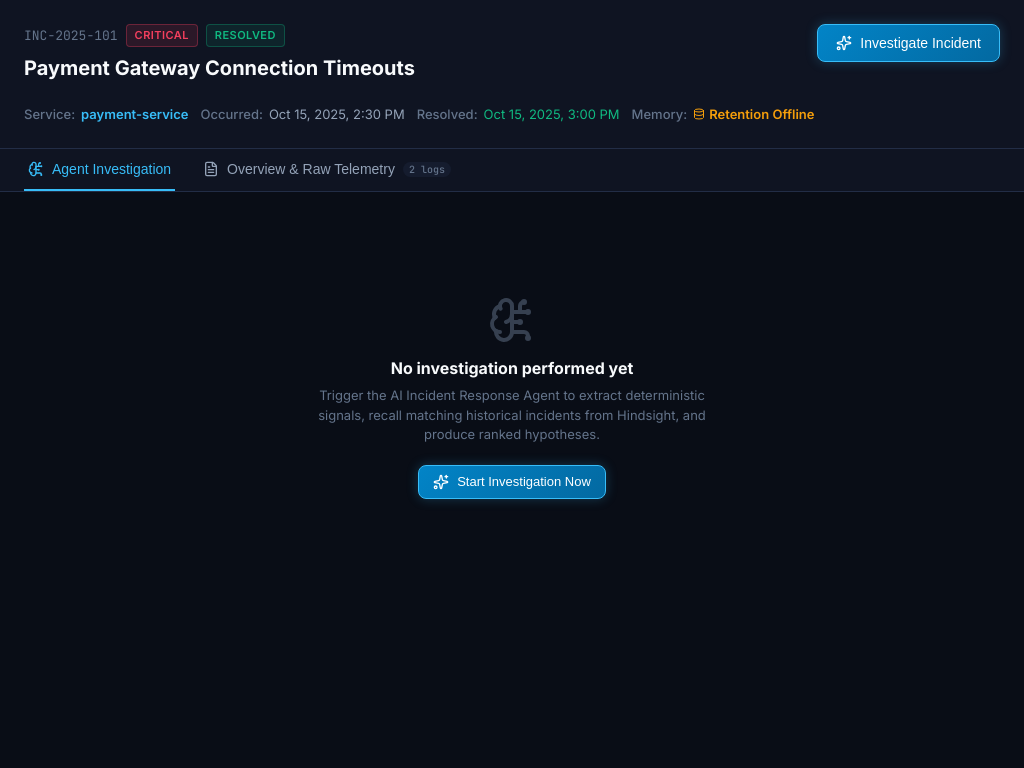
Test: IncidentDetail Component › renders Memory Offline badge when memory_status is retention_failed
Click the button "Overview & Raw Telemetry 2 logs". click: (327, 170)
box: x1=199 y1=149 x2=455 y2=191
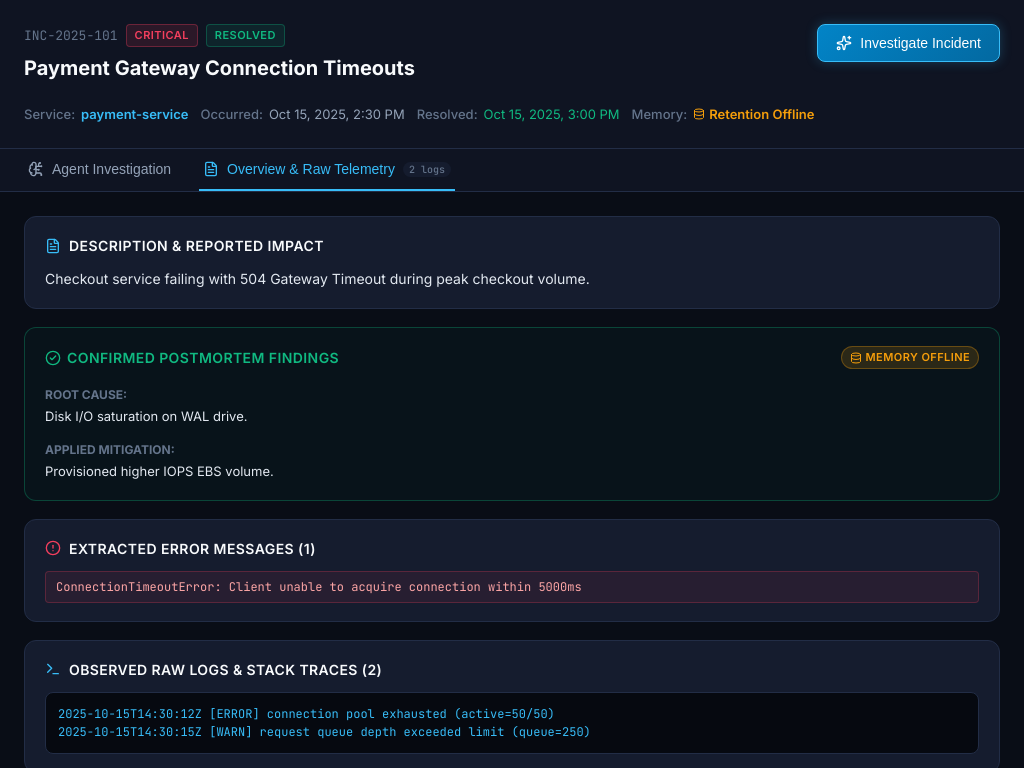
expect the text "Confirmed Postmortem Findings" is shown: met, box x1=67 y1=347 x2=339 y2=368
expect the text "Memory Offline" is shown: met, box x1=840 y1=346 x2=979 y2=369
